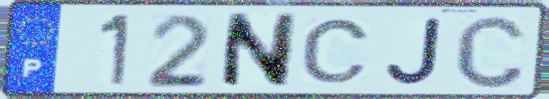1: (97, 13, 132, 89)
2: (147, 11, 210, 90)
C: (451, 12, 529, 91), (299, 16, 372, 86)
J: (383, 16, 445, 87)
N: (217, 11, 301, 91)
